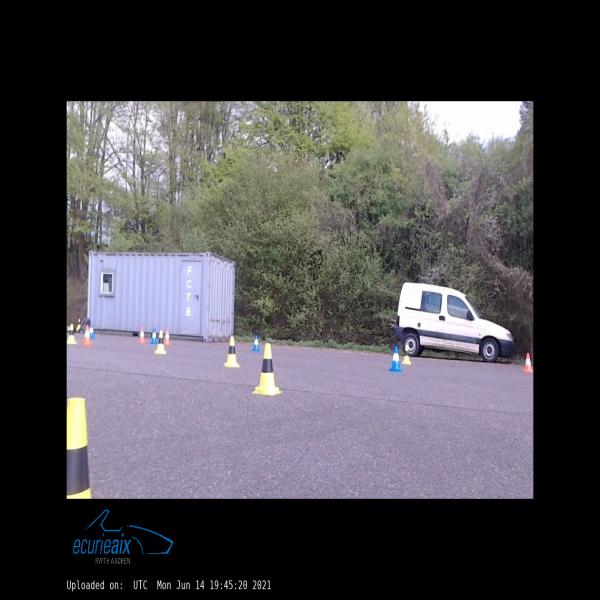blue_cone: (390, 346, 402, 372), (252, 335, 260, 351), (151, 328, 158, 344), (90, 324, 95, 337)
orange_cone: (82, 326, 92, 346), (523, 353, 533, 372), (138, 326, 146, 342), (164, 330, 170, 344)
yellow_cone: (66, 398, 92, 498), (252, 344, 282, 396), (223, 336, 240, 367), (154, 330, 166, 354), (67, 324, 77, 343), (401, 345, 411, 364), (77, 318, 80, 330)
